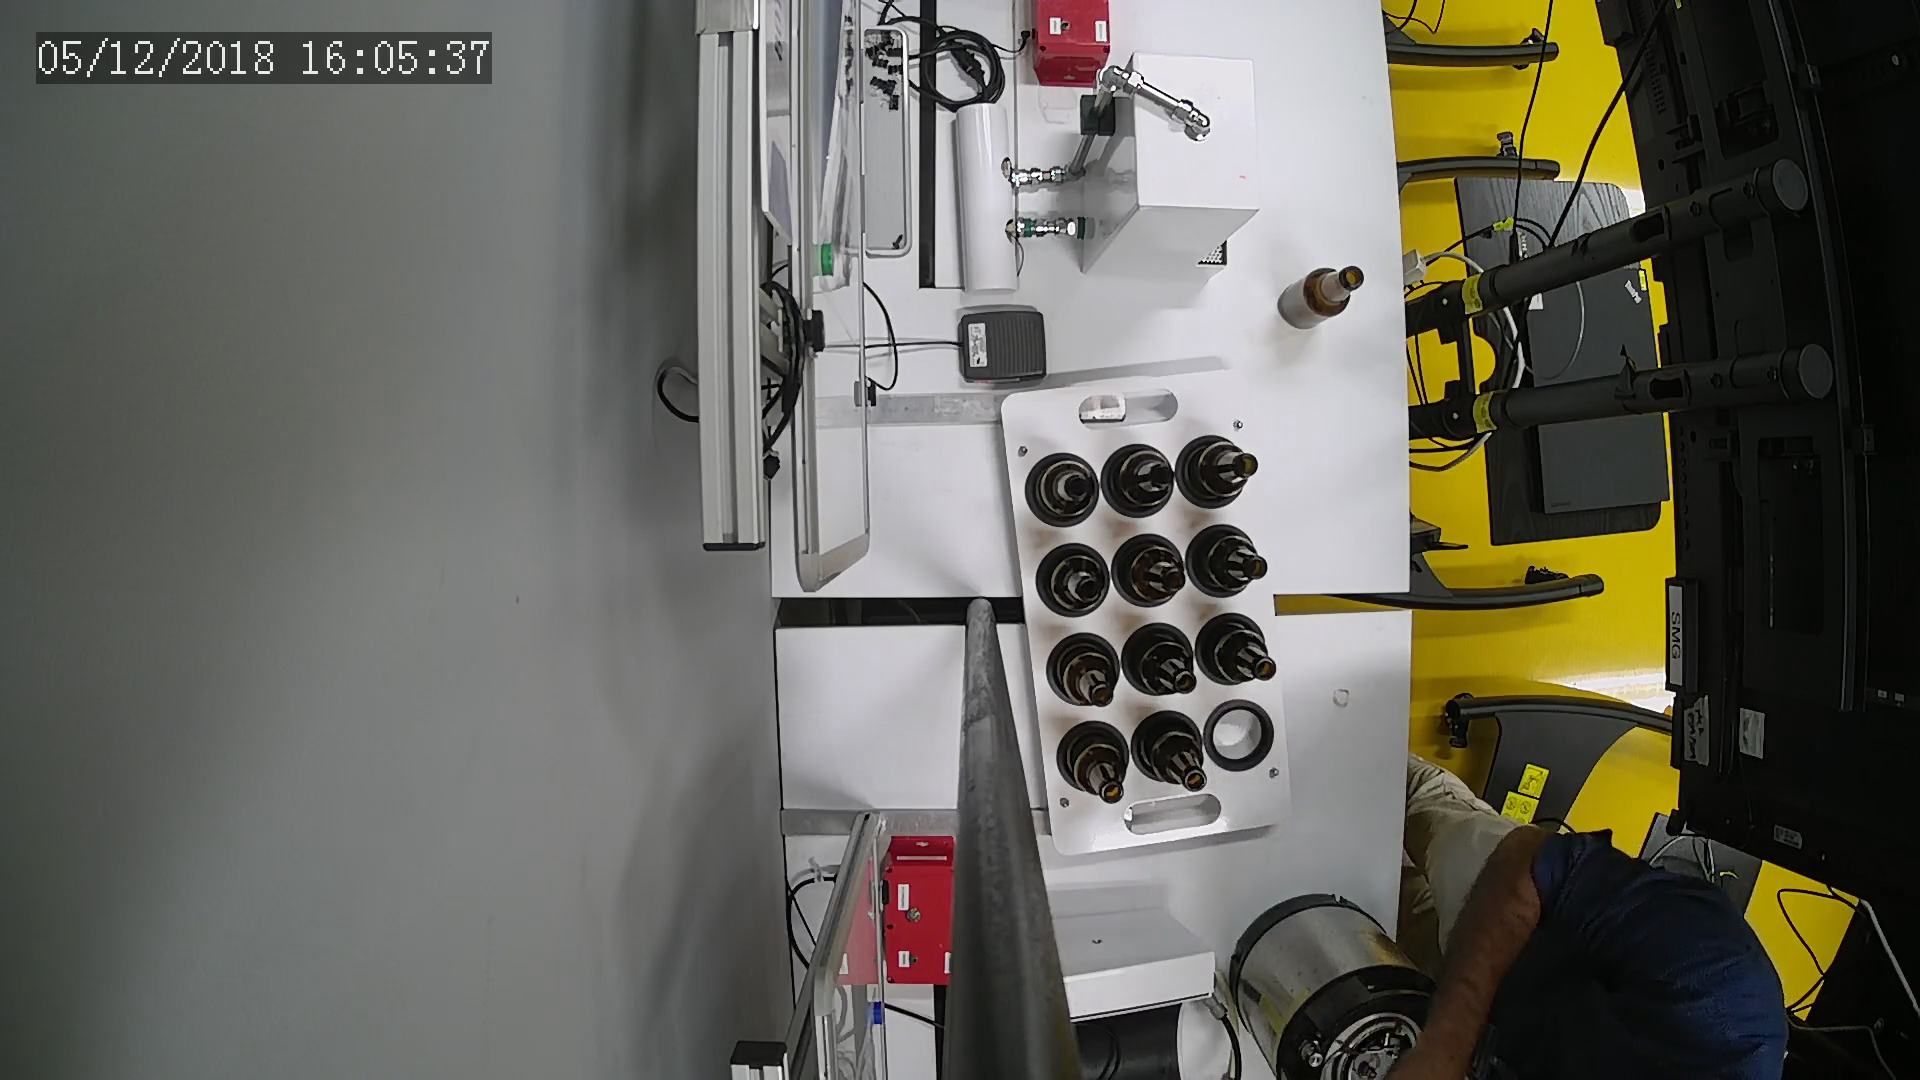filled_bottle: (1039, 628, 1129, 720), (1133, 709, 1216, 803), (1185, 520, 1279, 599), (1120, 620, 1203, 707), (1101, 440, 1189, 522), (1193, 609, 1280, 691), (1056, 717, 1129, 811), (1106, 524, 1187, 607), (1176, 434, 1265, 509), (1035, 541, 1116, 622), (1018, 451, 1102, 524)
trolley: (997, 363, 1299, 861)
unfilled_bottle: (1270, 262, 1374, 328)
